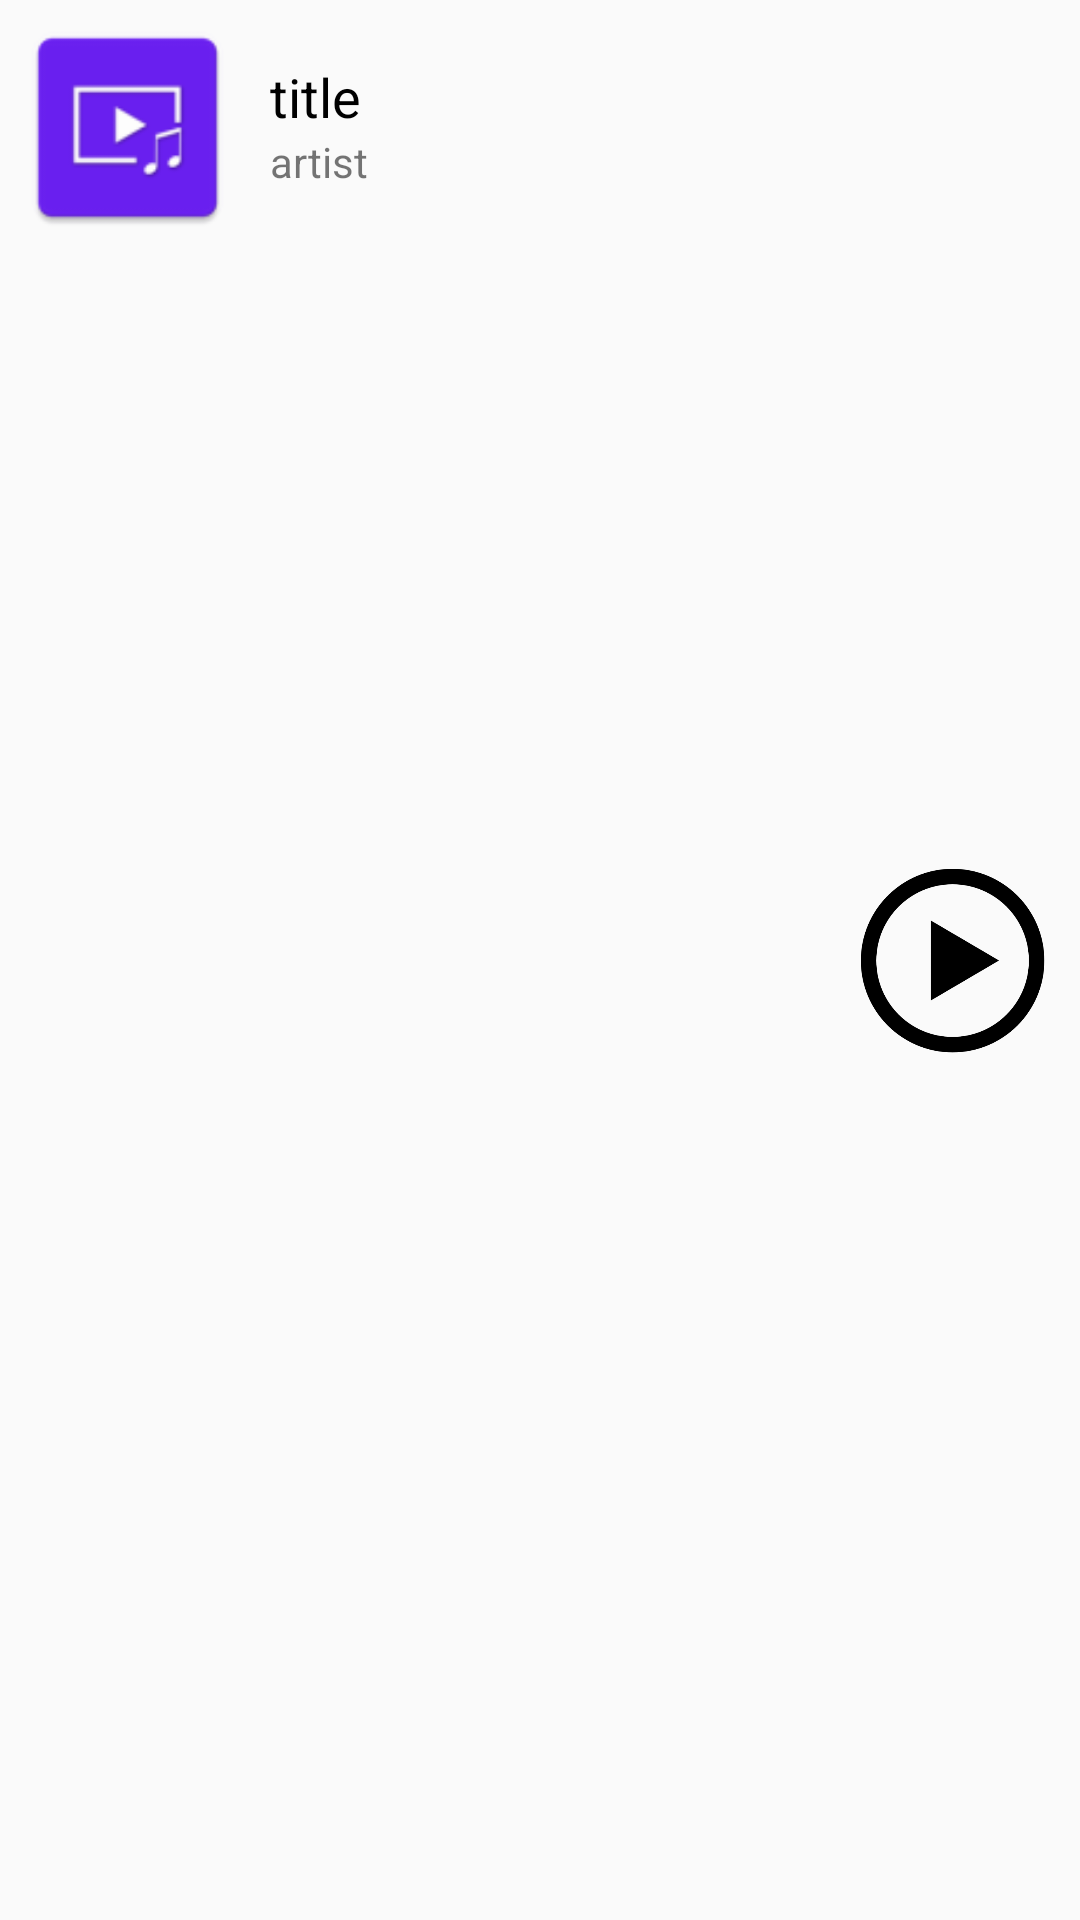

Icons on this 1080px×1920px Android screen, each with its box as box=[x1, y1, x2, y2]:
play: box=[861, 869, 1045, 1053]
songcast: box=[36, 37, 219, 223]
